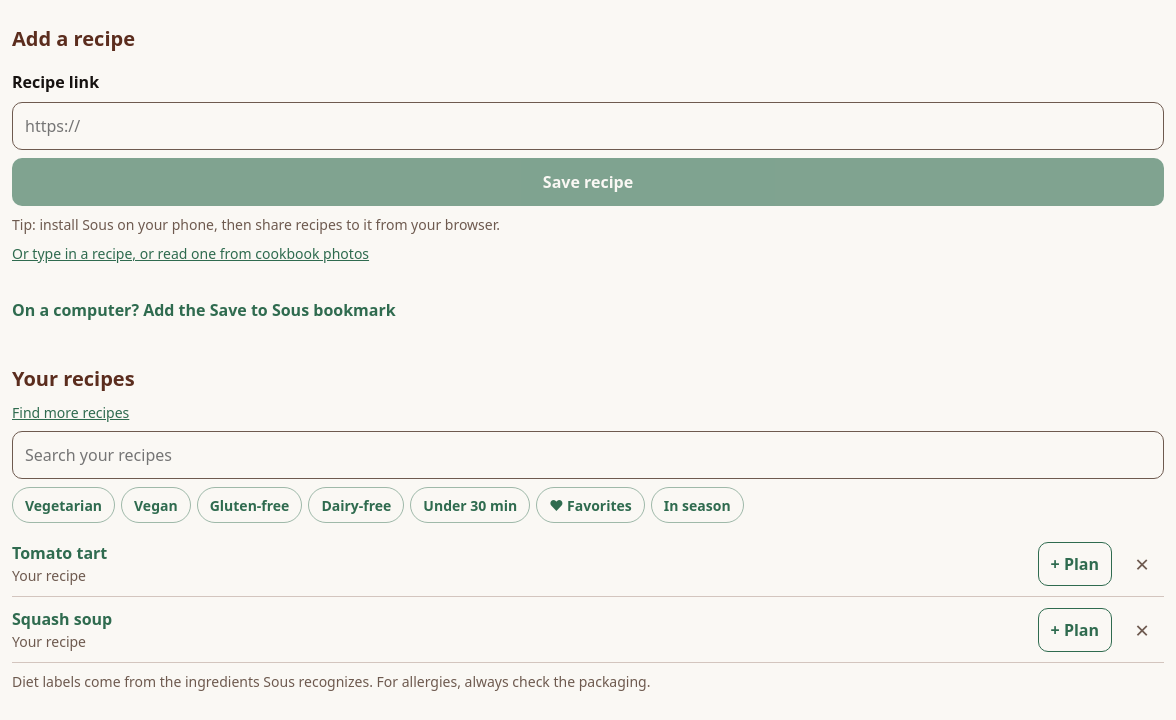
it: the library’s In season filter › shows only recipes in season this month
The image size is (1176, 720).
Click the button "In season" at (697, 505), box [651, 487, 744, 523]
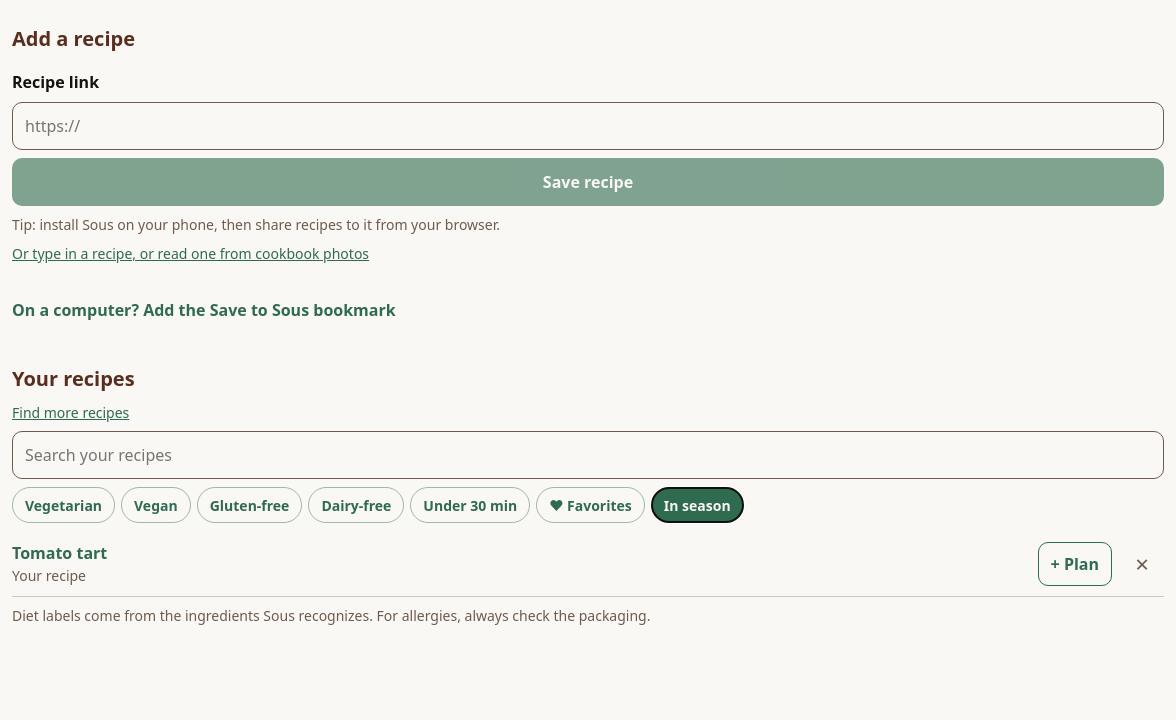
Expected: the link "Tomato tart" is shown, [12, 542, 107, 564]
Expected: the link "Squash soup" is gone
